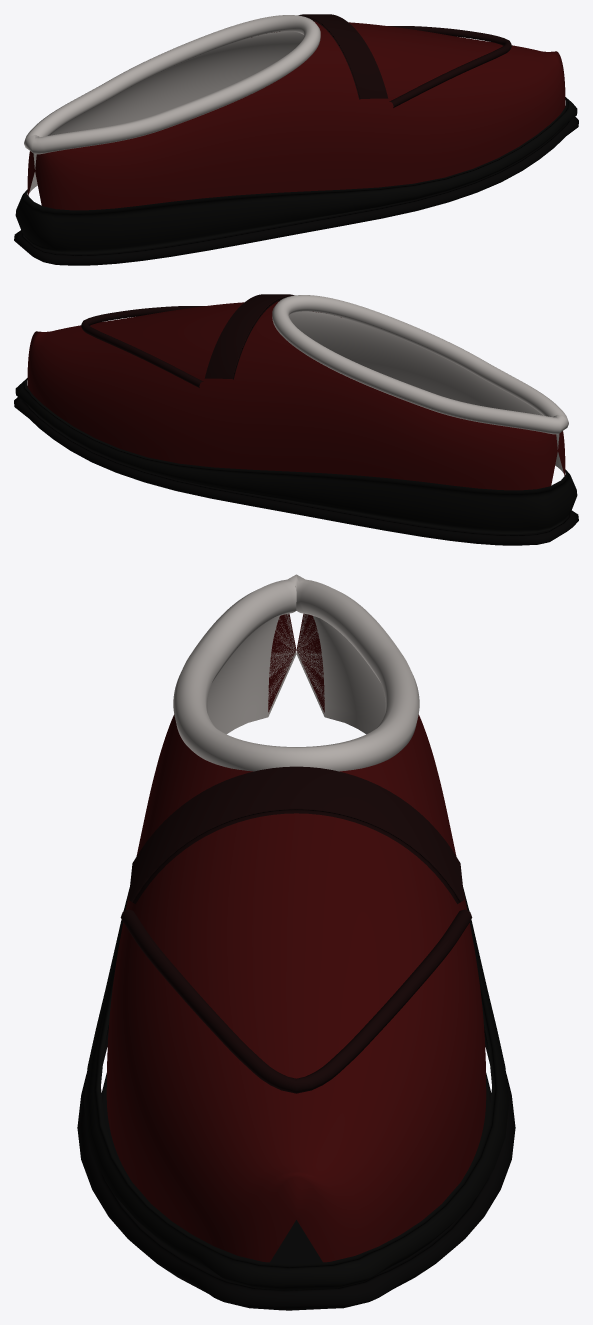
File: penny-loafer-burgundy.glb
3 renders of one model, top to bottom at view 1: azimuth 30°, elevation 25°; view 2: azimuth 150°, elevation 25°; view 3: azimuth 270°, elevation 25°, orthographic. The views are drawn at different scales.
Visible parts, largest first — view 1: upper, midsole, collar, lining, outsole, saddle, apron-seam; view 2: upper, midsole, collar, lining, outsole, saddle, apron-seam; view 3: upper, midsole, collar, saddle, outsole, lining, apron-seam.
Boxes of the visible parts, bbox=[...] form: upper: bbox=[27, 21, 565, 210]; midsole: bbox=[15, 97, 577, 253]; collar: bbox=[24, 15, 320, 154]; lining: bbox=[29, 31, 303, 193]; outsole: bbox=[14, 116, 578, 265]; saddle: bbox=[298, 14, 388, 99]; apron-seam: bbox=[388, 26, 511, 107]; upper: bbox=[27, 301, 565, 490]; midsole: bbox=[15, 378, 577, 533]; collar: bbox=[272, 295, 568, 434]; lining: bbox=[289, 311, 563, 473]; outsole: bbox=[14, 397, 578, 545]; saddle: bbox=[204, 294, 294, 379]; apron-seam: bbox=[81, 306, 204, 387]; upper: bbox=[106, 613, 486, 1262]; midsole: bbox=[84, 887, 508, 1290]; collar: bbox=[173, 574, 419, 771]; saddle: bbox=[128, 766, 464, 903]; outsole: bbox=[77, 1025, 515, 1310]; lining: bbox=[207, 613, 385, 734]; apron-seam: bbox=[120, 909, 472, 1093].
Bounding box in the file's own units: 0.293 × 0.0869 × 0.1027.
